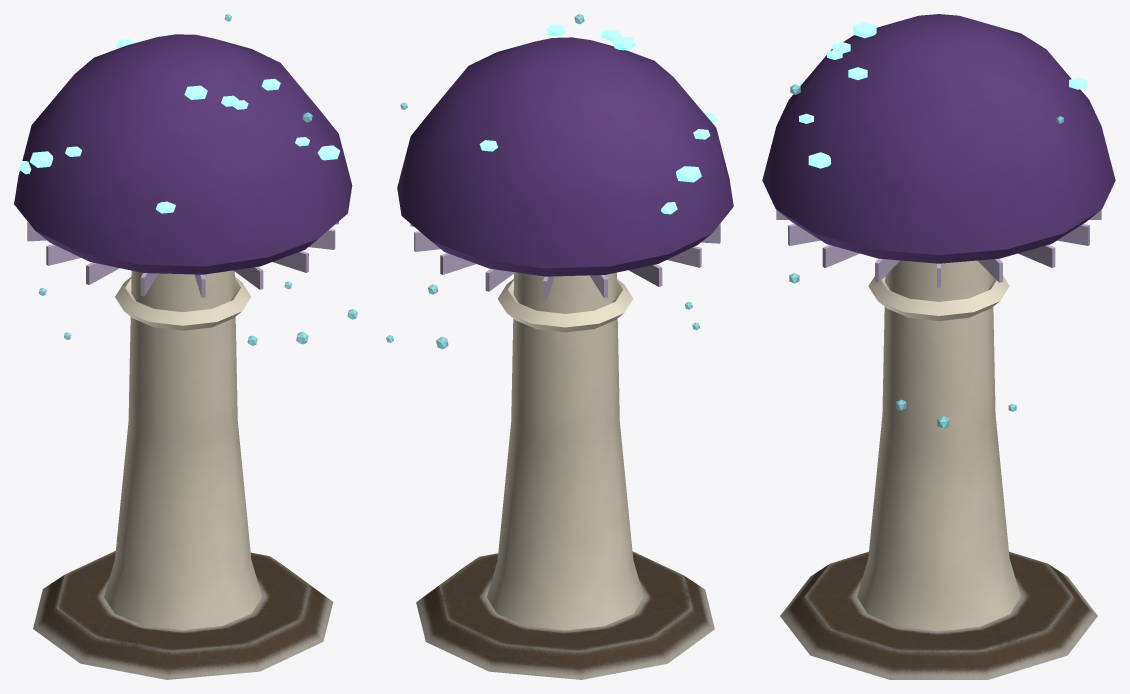
File: hongo_luminoso.fbx
3 views of the same model, side by side, from view 1: azimuth 30°, elevation 25°; view 2: azimuth 150°, elevation 25°; view 3: azimuth 270°, elevation 25° (orthographic). The views are drawn at different scales.
Parts seen in each view (by area): view 1: hongo_luminoso, hongo_luminoso_puntos_neon, hongo_luminoso_esporas_neon; view 2: hongo_luminoso, hongo_luminoso_puntos_neon; view 3: hongo_luminoso, hongo_luminoso_puntos_neon, hongo_luminoso_esporas_neon.
Boxes of the visible parts, x1,y1,x2,y2 form: hongo_luminoso: (14,34,352,679); hongo_luminoso_puntos_neon: (19,39,339,213); hongo_luminoso_esporas_neon: (38,14,357,345); hongo_luminoso: (397,37,733,679); hongo_luminoso_puntos_neon: (479,24,716,214); hongo_luminoso: (762,14,1115,679); hongo_luminoso_puntos_neon: (799,22,1087,168); hongo_luminoso_esporas_neon: (789,84,1063,429).
Size of the model in its own units: 1.03 by 1.83 by 1.
Materials: 3 (1 with a texture image).
